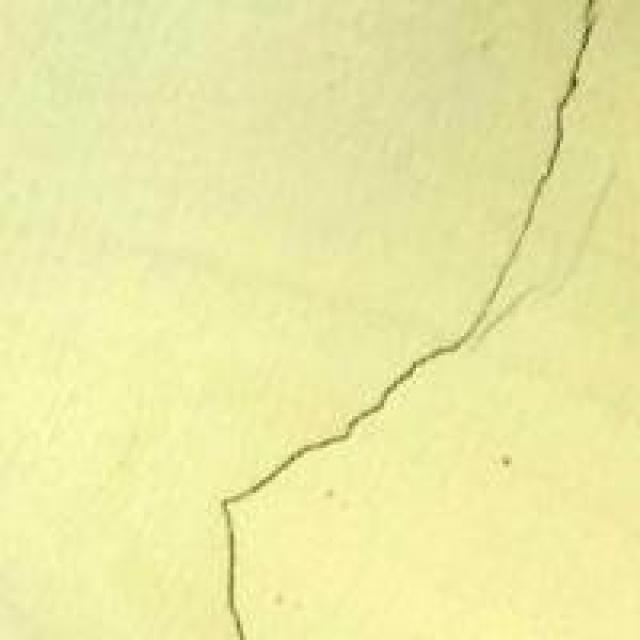crack: (202, 3, 618, 637)
